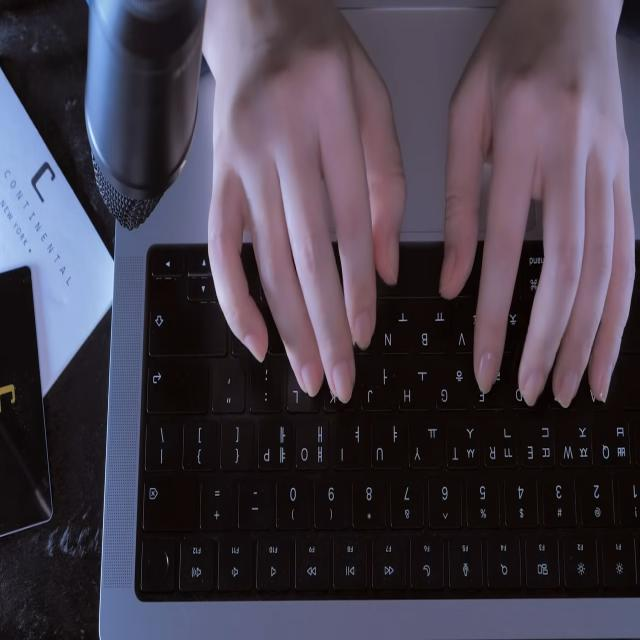keyboard-with-hands: (135, 244, 640, 595)
